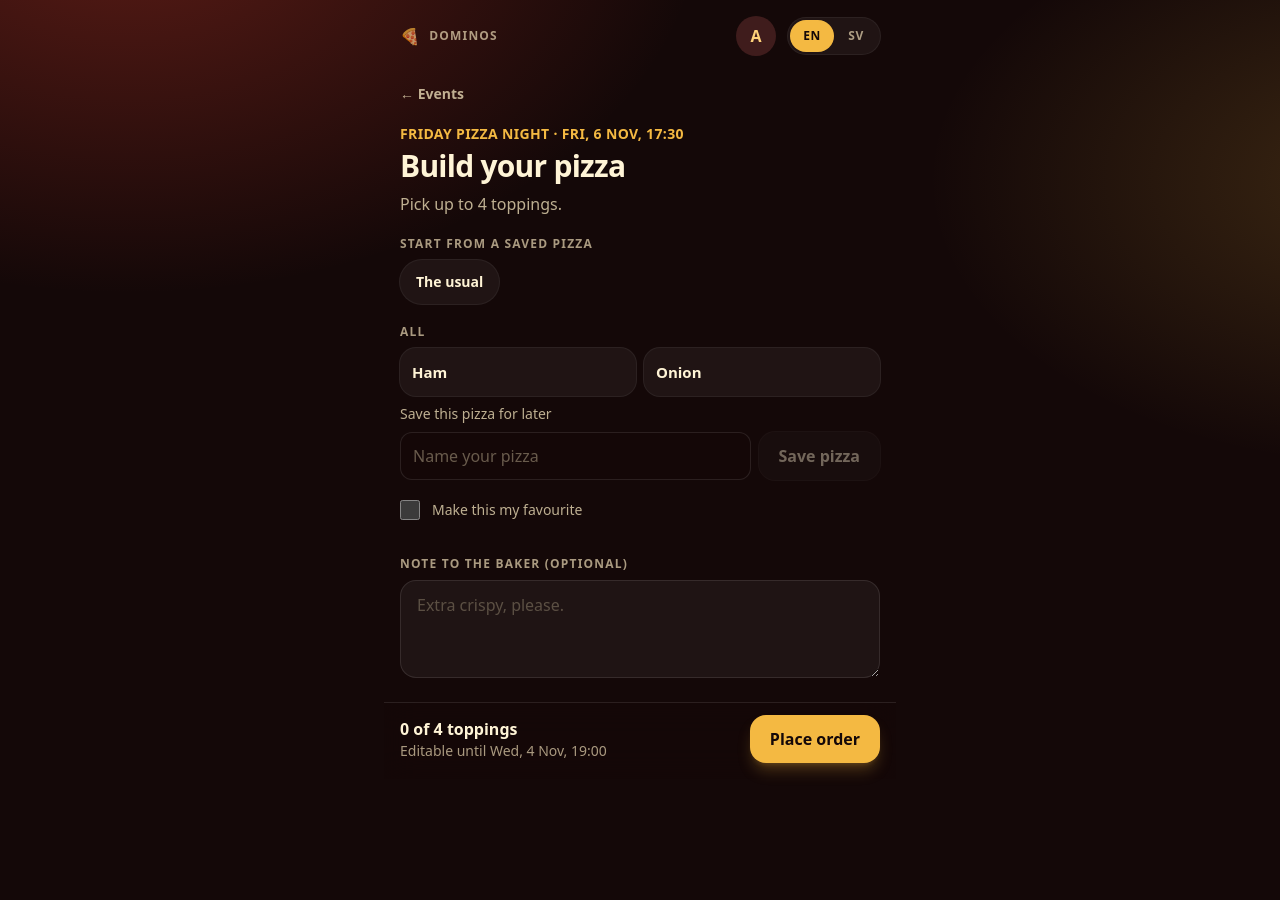
Scenario: saved pizzas in the builder › fill in the toppings, which can be changed before ordering
The image size is (1280, 900).
Later steps or results of the test are not shown.
Click the button "The usual" at [450, 282], box [400, 260, 499, 304]
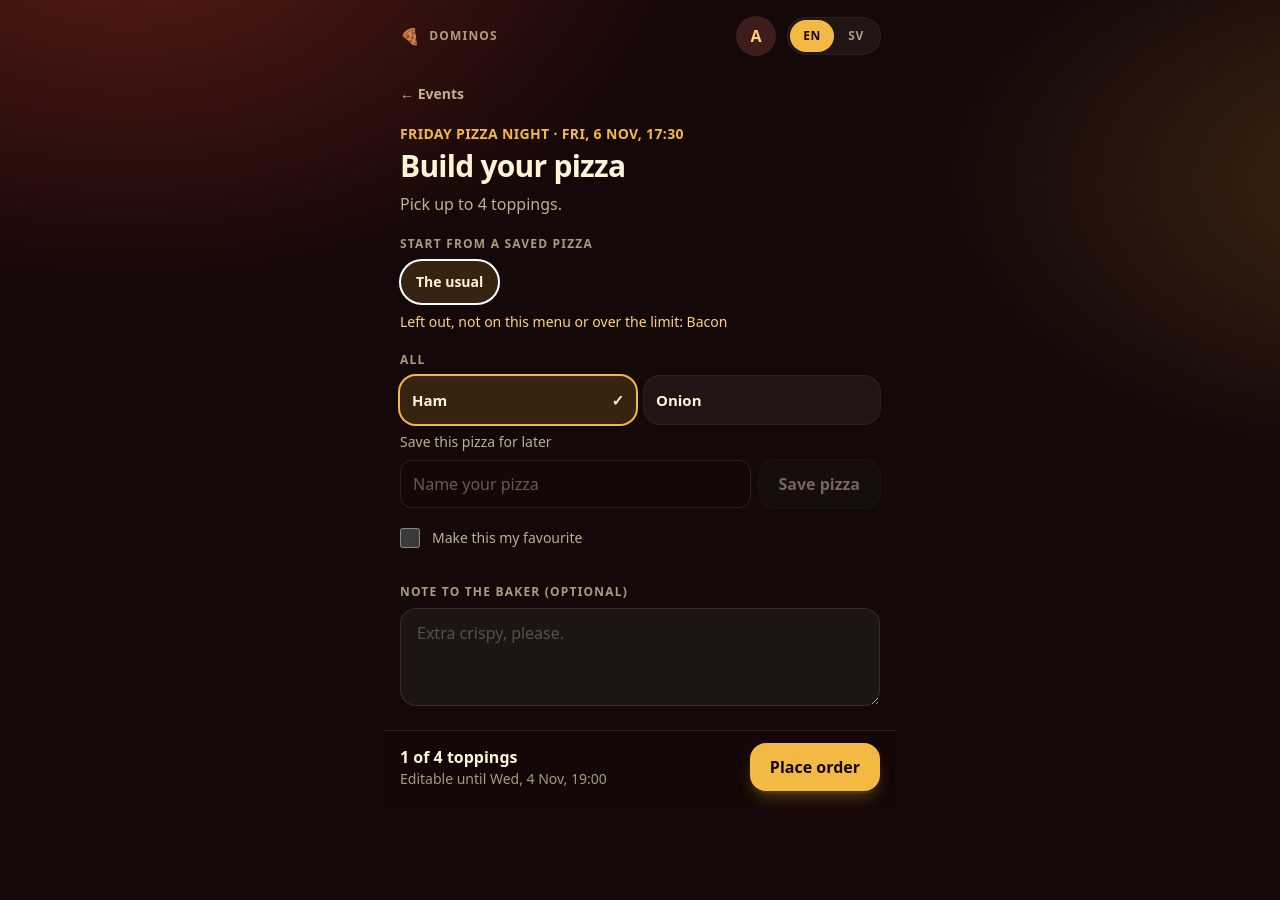
Now the message reads "Left out, not on this menu or over the limit: Bacon", box [400, 312, 727, 331]
